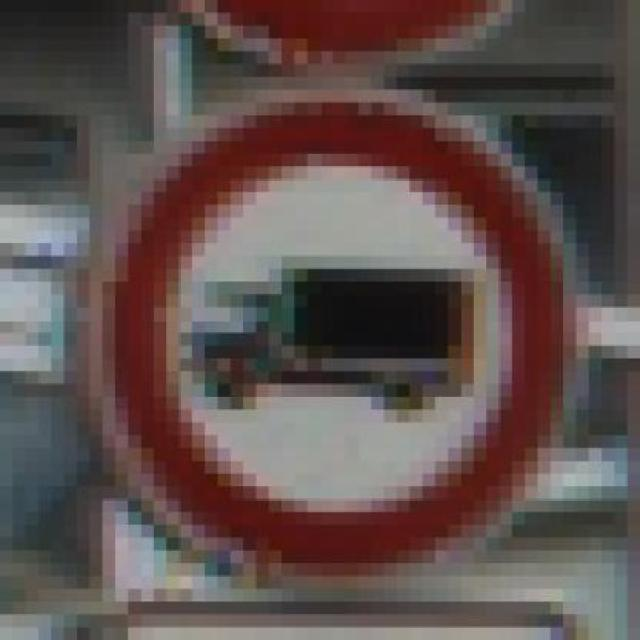Truck traffic is prohibited: (76, 90, 576, 588)
